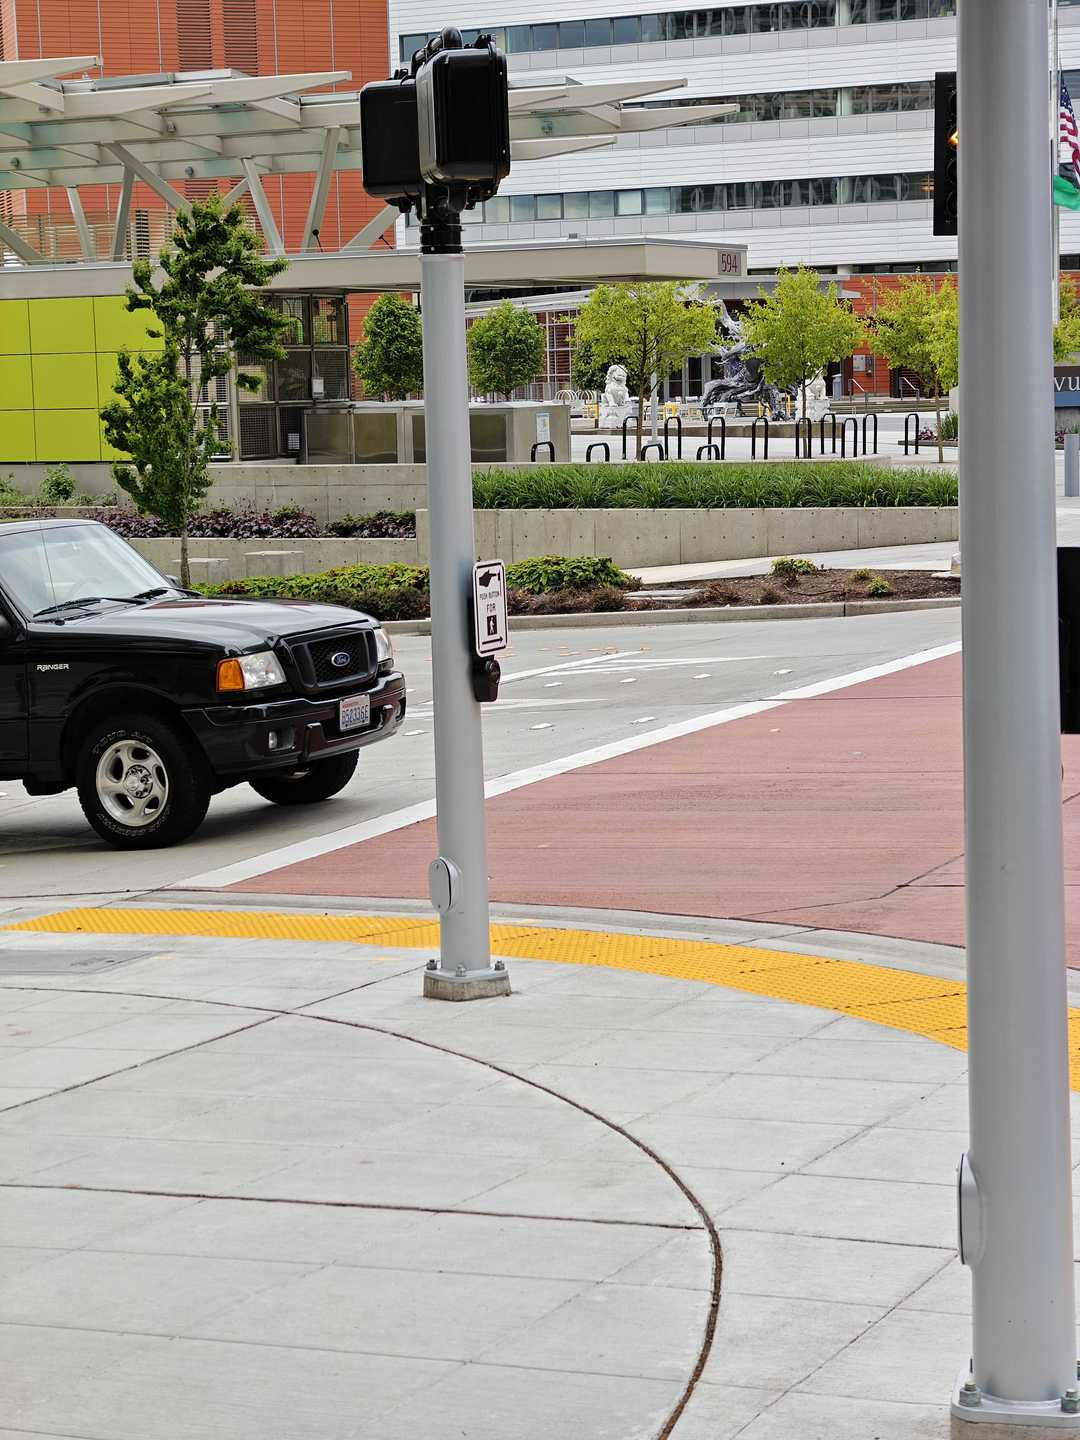ped_button: (472, 558, 508, 703)
